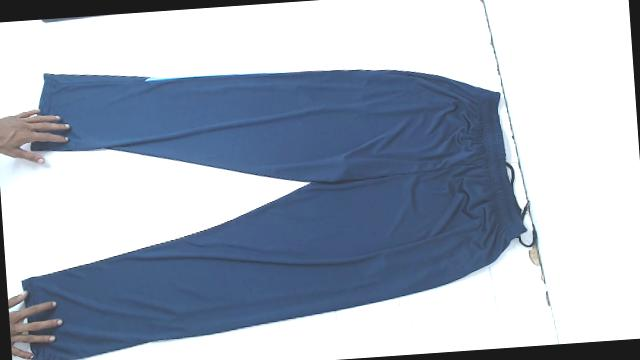new-garment: (23, 69, 524, 360)
